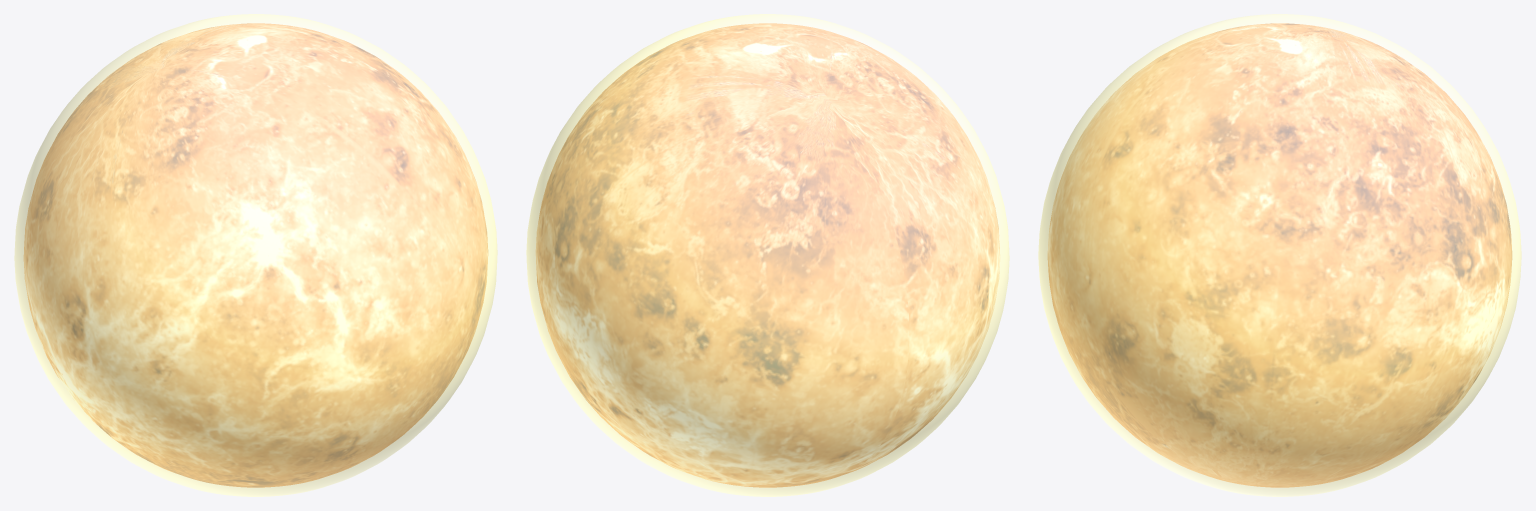
The picture shows the model from 3 angles, left to right: view 1: azimuth 30°, elevation 25°; view 2: azimuth 150°, elevation 25°; view 3: azimuth 270°, elevation 25°; orthographic projection.
Parts seen in each view (by area): view 1: color, Ceres; view 2: color, Ceres; view 3: color, Ceres.
Part boxes in pixels (box(x1,y1,x2,y2)): color: box(14, 14, 497, 496); Ceres: box(24, 23, 487, 487); color: box(526, 14, 1009, 496); Ceres: box(536, 23, 999, 487); color: box(1038, 14, 1521, 496); Ceres: box(1048, 23, 1511, 487).
Size of the model in its own units: 2.08 by 2.08 by 2.08.
2 materials, 2 textured.
